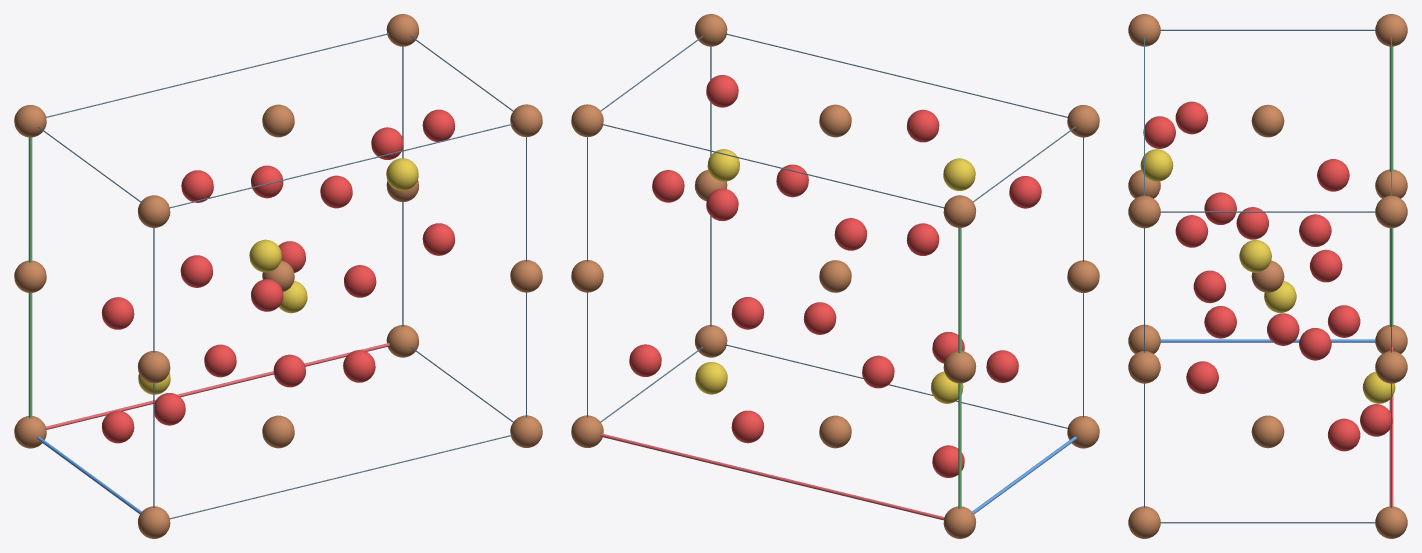
Rendered from chat-chalcocyanite.glb.
3 renders of one model, left to right at view 1: azimuth 30°, elevation 25°; view 2: azimuth 150°, elevation 25°; view 3: azimuth 270°, elevation 25°, orthographic.
Parts seen in each view (by area): view 1: Cu · Cu · 1 (×13), Ô mạng và các trục a, b, c, O3 · O · 1 (×7), O2 · O · 1 (×4), O1 · O · 1 (×4), S · S · 1 (×3); view 2: Cu · Cu · 1 (×14), O3 · O · 1 (×8), Ô mạng và các trục a, b, c, O1 · O · 1 (×4), O2 · O · 1 (×4), S · S · 1 (×4); view 3: Cu · Cu · 1 (×15), O3 · O · 1 (×8), Ô mạng và các trục a, b, c, O1 · O · 1 (×4), O2 · O · 1 (×4), S · S · 1 (×4).
Boxes of the visible parts, x1,y1,x2,y2 form: Cu · Cu · 1 (×13): (14,14,542,538); Ô mạng và các trục a, b, c: (28,33,526,519); O3 · O · 1 (×7): (101,109,455,443); O2 · O · 1 (×4): (180,175,376,377); O1 · O · 1 (×4): (154,127,403,425); S · S · 1 (×3): (249,158,418,313); Cu · Cu · 1 (×14): (571,14,1099,538); O3 · O · 1 (×8): (706,75,964,477); Ô mạng và các trục a, b, c: (587,33,1083,520); O1 · O · 1 (×4): (652,170,1018,382); O2 · O · 1 (×4): (629,164,1041,388); S · S · 1 (×4): (695,149,975,403); Cu · Cu · 1 (×15): (1128,14,1407,538); O3 · O · 1 (×8): (1175,101,1360,451); Ô mạng và các trục a, b, c: (1144,29,1393,523); O1 · O · 1 (×4): (1186,159,1349,393); O2 · O · 1 (×4): (1143,116,1392,436); S · S · 1 (×4): (1140,149,1395,403).
Bounding box in the file's own units: 9.05 × 7.35 × 5.47.
